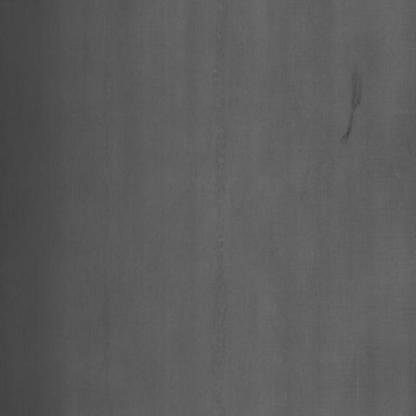water_spot: (332, 64, 372, 170)
